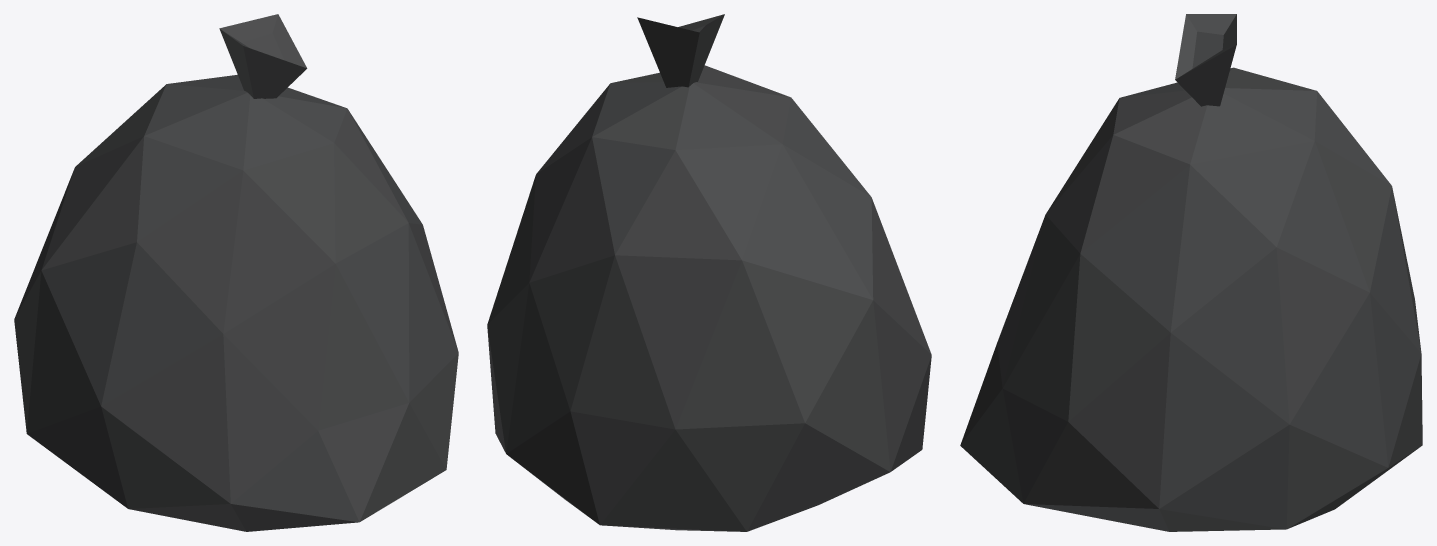
File: SM_sack_garbage_03.fbx
The picture shows the model from 3 angles, left to right: view 1: azimuth 30°, elevation 25°; view 2: azimuth 150°, elevation 25°; view 3: azimuth 270°, elevation 25°; orthographic projection. The views are drawn at different scales.
Visible parts, largest first — view 1: GeoSphere003; view 2: GeoSphere003; view 3: GeoSphere003.
Part boxes in pixels (<box>): GeoSphere003: <box>14,14,458,531</box>; GeoSphere003: <box>487,14,931,531</box>; GeoSphere003: <box>960,14,1422,531</box>.
Size of the model in its own units: 21.49 by 21.07 by 22.95.
